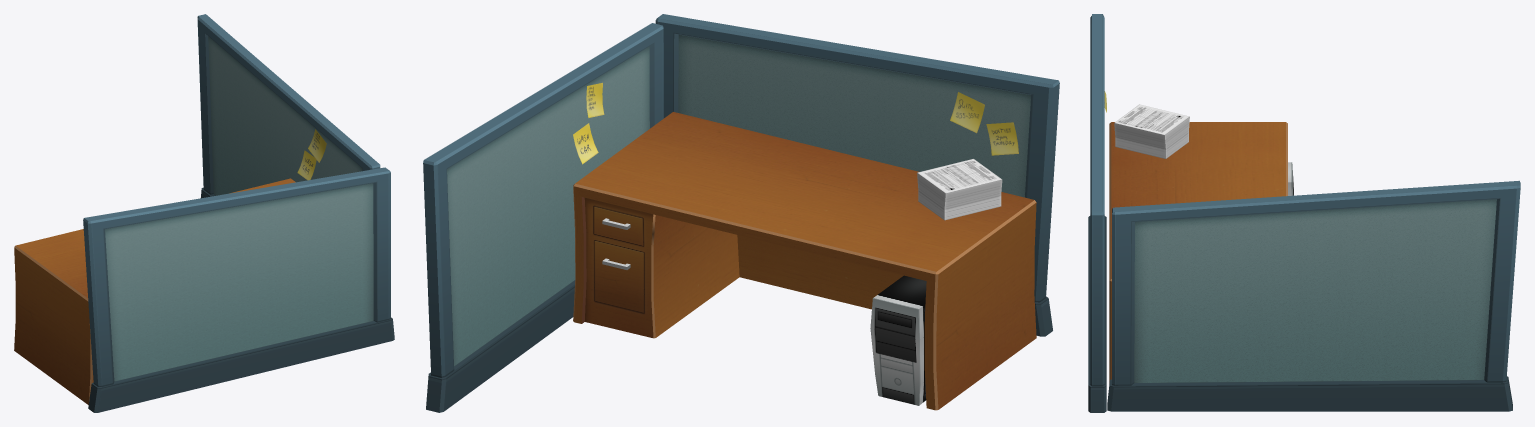
Rendered from SM_Desk.fbx.
3 views of the same model, side by side, from view 1: azimuth 30°, elevation 25°; view 2: azimuth 150°, elevation 25°; view 3: azimuth 270°, elevation 25° (orthographic). The views are drawn at different scales.
Visible parts, largest first — view 1: SM_desk; view 2: SM_desk; view 3: SM_desk.
Boxes of the visible parts, x1,y1,x2,y2 form: SM_desk: (14,14,394,412); SM_desk: (423,14,1059,412); SM_desk: (1088,14,1520,412).
Size of the model in its own units: 226 by 136 by 236.
Materials: 8 (8 with a texture image).
